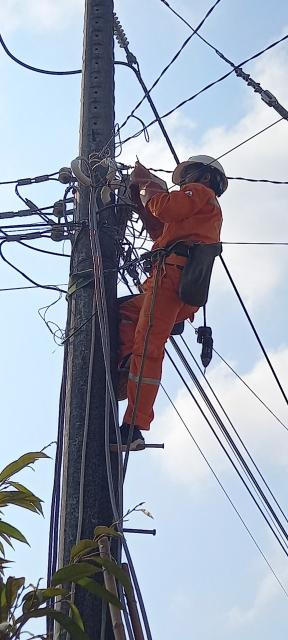gloves: (125, 188, 163, 235), (130, 163, 167, 211)
harness: (147, 233, 231, 277)
helmet: (157, 147, 239, 195)
shoes: (101, 420, 151, 455), (112, 353, 133, 404)
